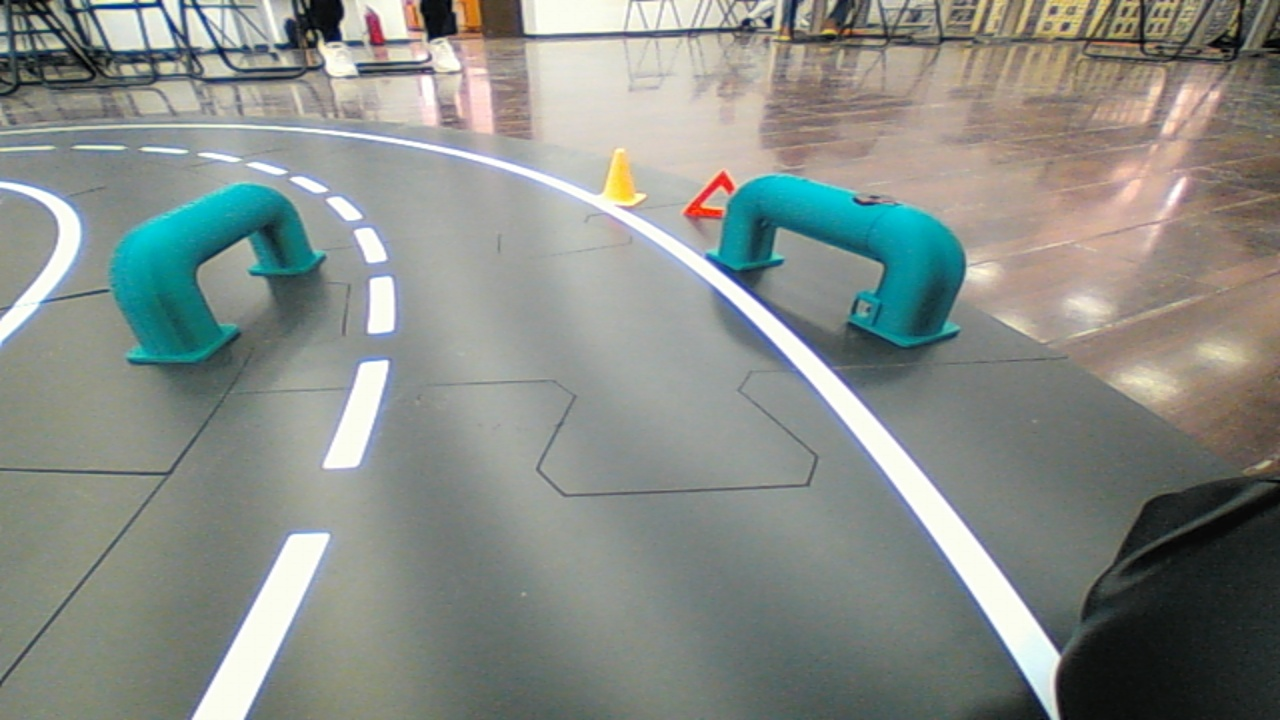No entry: (97, 163, 335, 381)
Parking: (566, 136, 658, 214), (671, 165, 755, 227)
Pedestrian crossing: (701, 151, 985, 358)
